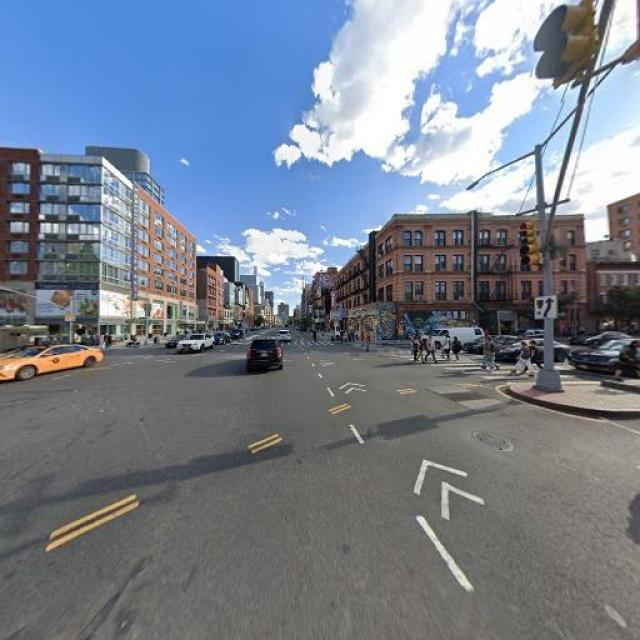Building: (1, 153, 200, 344), (347, 213, 579, 334)
